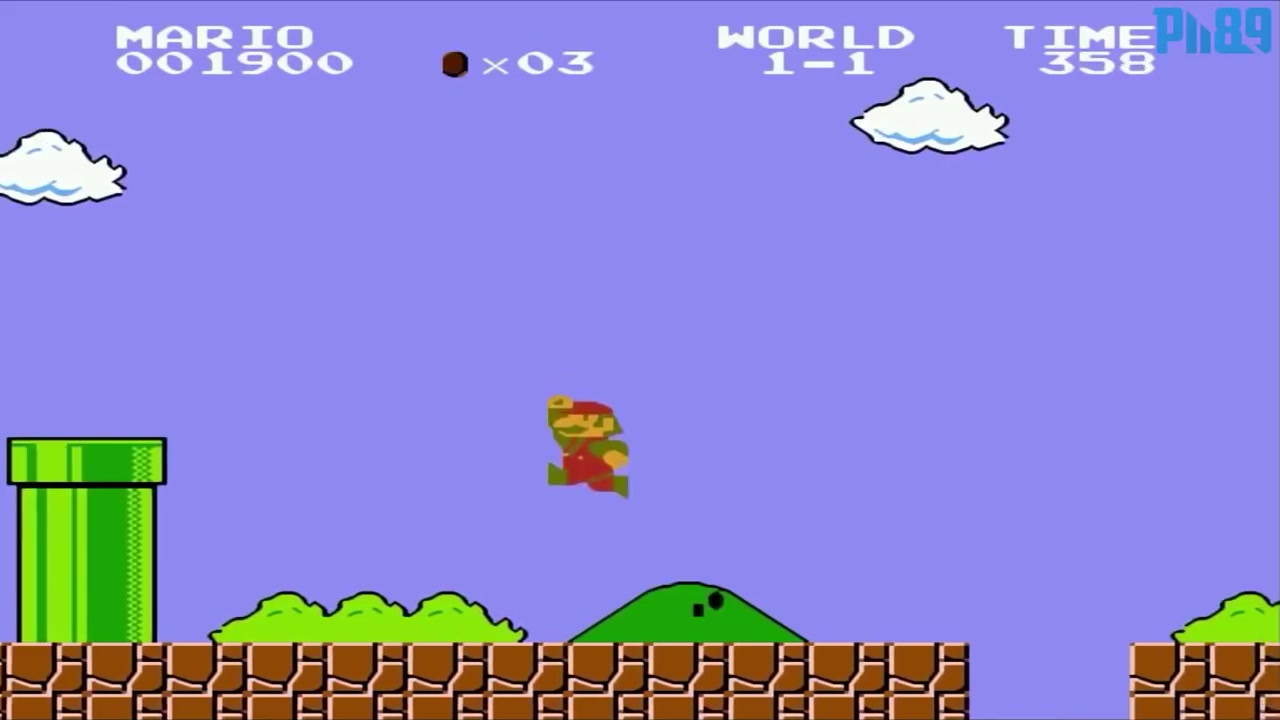mario: (536, 387, 640, 502)
